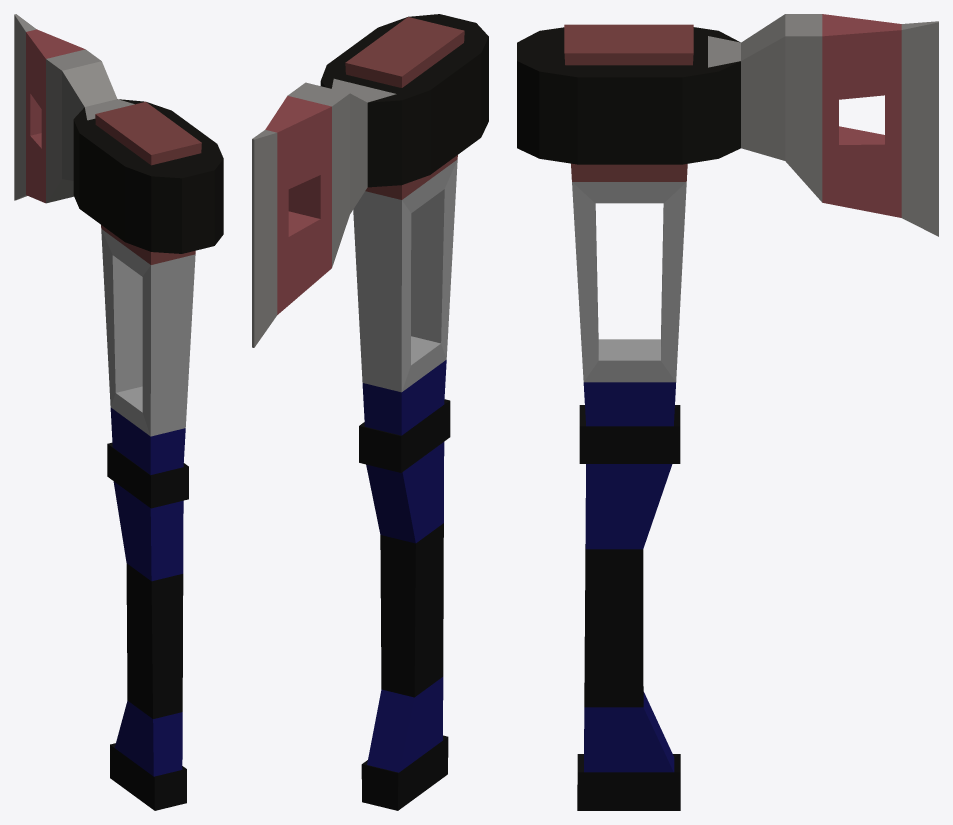
The model's file is axe_v001.fbx.
The picture shows the model from 3 angles, left to right: view 1: azimuth 30°, elevation 25°; view 2: azimuth 150°, elevation 25°; view 3: azimuth 270°, elevation 25°; orthographic projection. The views are drawn at different scales.
Visible parts, largest first — view 1: Handle, Head; view 2: Handle, Head; view 3: Head, Handle.
Boxes of the visible parts, bbox=[...] form: Handle: bbox=[95, 101, 201, 810]; Head: bbox=[14, 14, 223, 253]; Handle: bbox=[345, 17, 464, 810]; Head: bbox=[252, 14, 488, 347]; Head: bbox=[517, 14, 938, 236]; Handle: bbox=[564, 24, 693, 810].
Size of the model in its own units: 230 by 1615 by 791.
